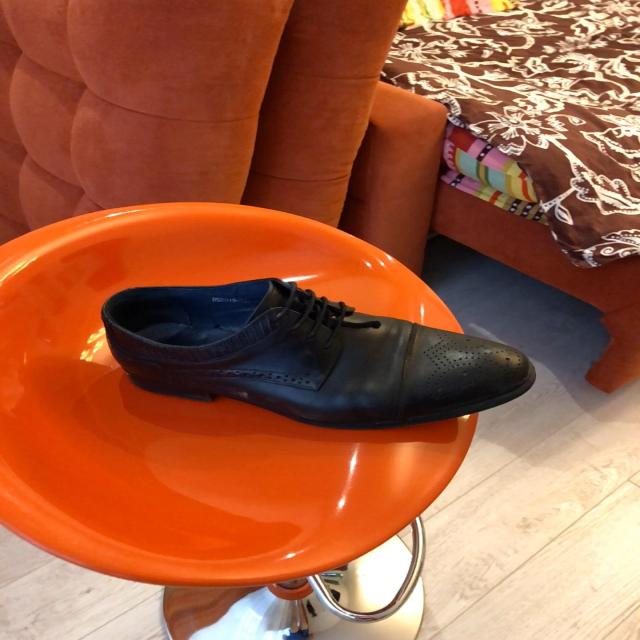shoe: (100, 280, 537, 432)
